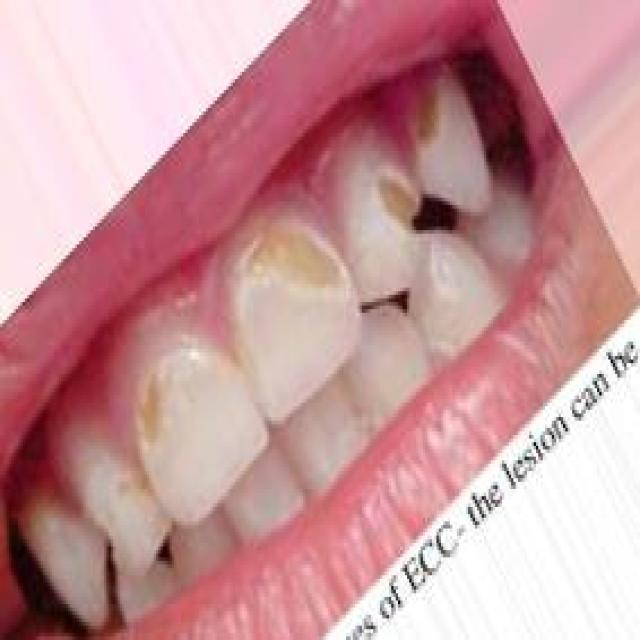caries: (235, 208, 347, 336), (354, 149, 428, 261), (130, 363, 188, 462), (409, 79, 468, 172)
